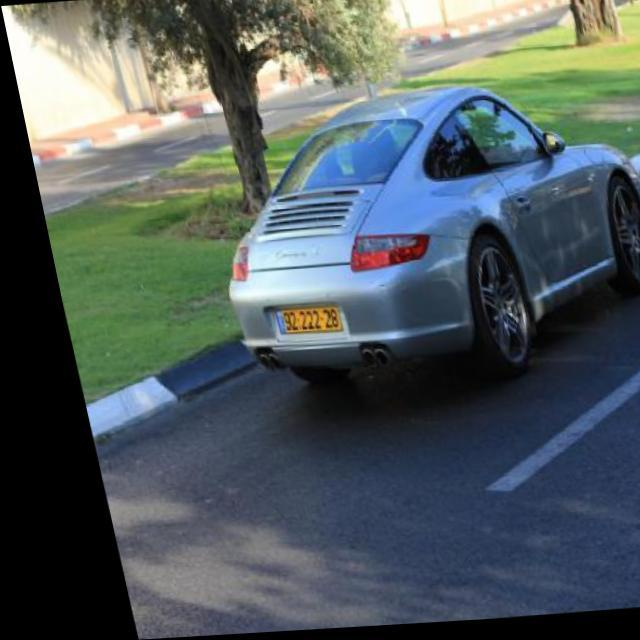license_plate: (256, 304, 330, 339)
